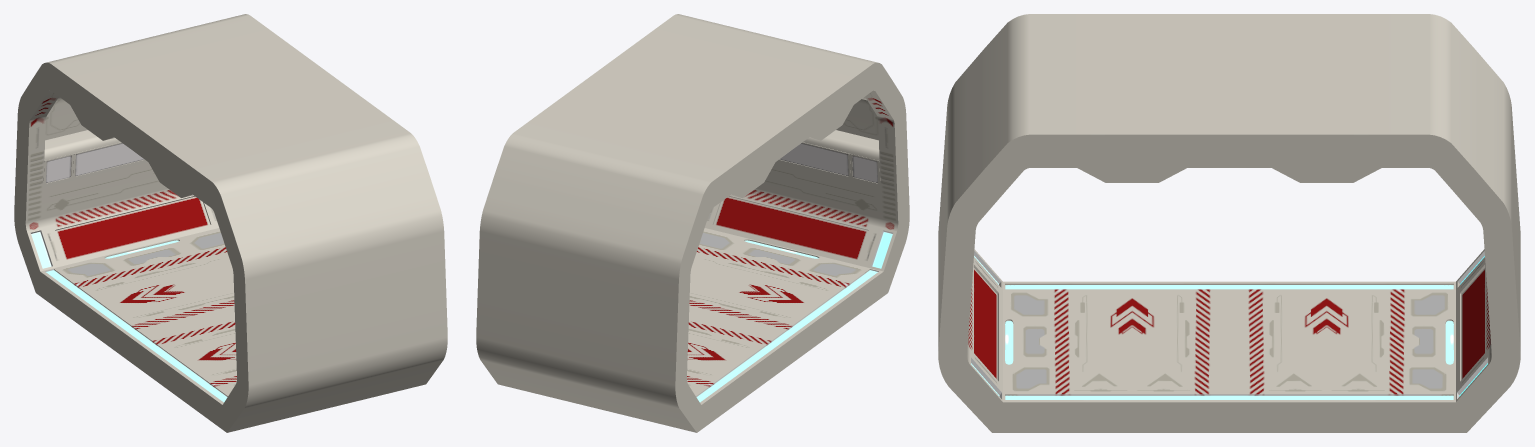
Rendered from SM_CoridorWallLargeS.fbx.
3 views of the same model, side by side, from view 1: azimuth 30°, elevation 25°; view 2: azimuth 150°, elevation 25°; view 3: azimuth 270°, elevation 25° (orthographic). The views are drawn at different scales.
Visible parts, largest first — view 1: SM_CoridorWallLargeS_LOD0; view 2: SM_CoridorWallLargeS_LOD0; view 3: SM_CoridorWallLargeS_LOD0.
Boxes of the visible parts, <box> form: SM_CoridorWallLargeS_LOD0: <box>14,14,447,432</box>; SM_CoridorWallLargeS_LOD0: <box>476,14,909,432</box>; SM_CoridorWallLargeS_LOD0: <box>938,14,1520,432</box>.
Size of the model in its own units: 358 by 413 by 731.
1 material, 1 textured.
